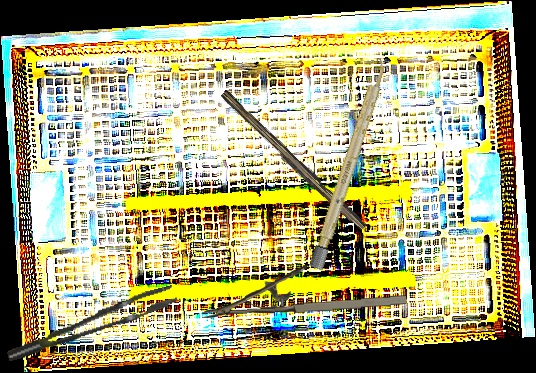Needle Holder: (200, 261, 407, 319)
Scalpel Handle: (216, 89, 369, 234), (308, 56, 391, 272)
Tissue Forceps: (0, 284, 183, 362)
